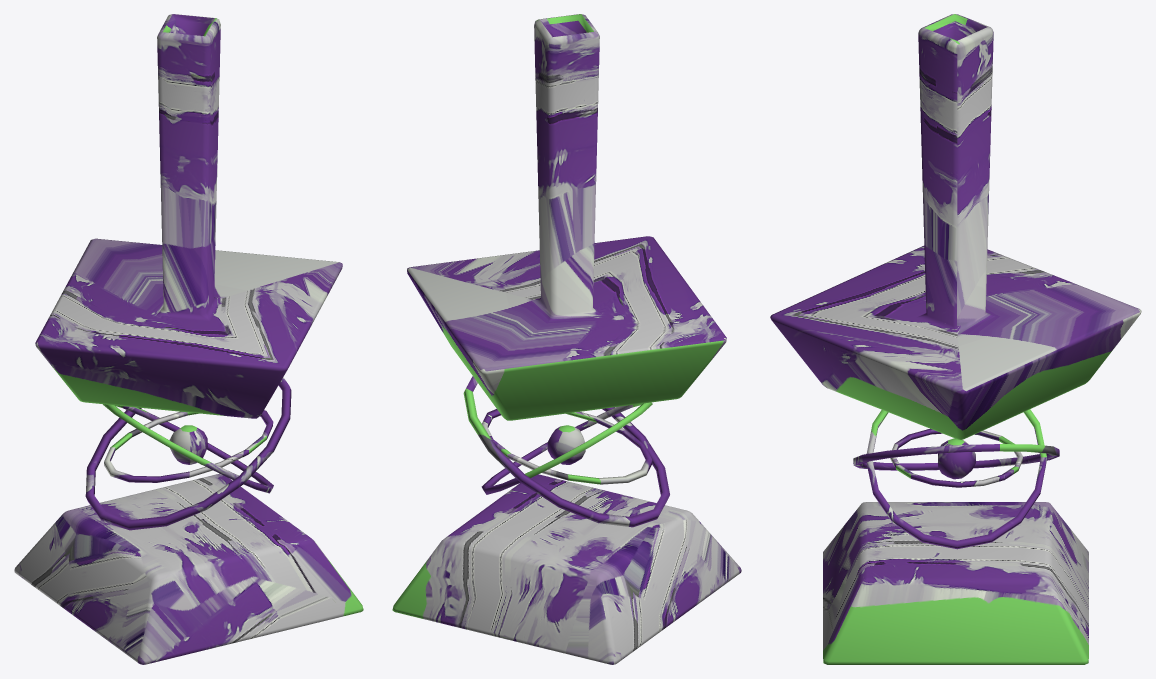
Rendered from antimatter_drink.fbx.
3 views of the same model, side by side, from view 1: azimuth 30°, elevation 25°; view 2: azimuth 150°, elevation 25°; view 3: azimuth 270°, elevation 25° (orthographic). The views are drawn at different scales.
Parts seen in each view (by area): view 1: Cube.012; view 2: Cube.012; view 3: Cube.012.
Boxes of the visible parts, bbox=[...] form: Cube.012: bbox=[14, 14, 363, 664]; Cube.012: bbox=[392, 14, 741, 664]; Cube.012: bbox=[770, 14, 1141, 664].
Size of the model in its own units: 71.56 by 124 by 71.56.
